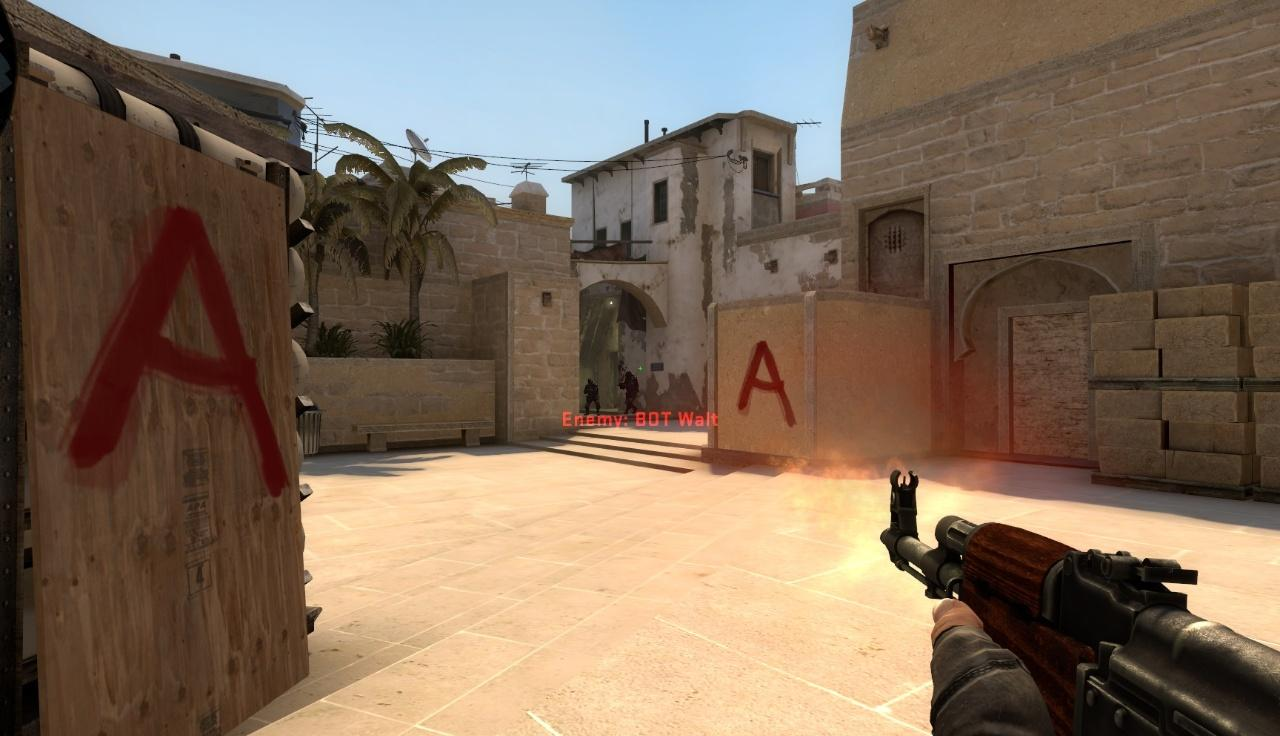ct: (620, 371, 639, 414), (584, 378, 600, 416)
cthead: (625, 372, 632, 378), (588, 378, 594, 384)
rifle: (878, 469, 1280, 736)
